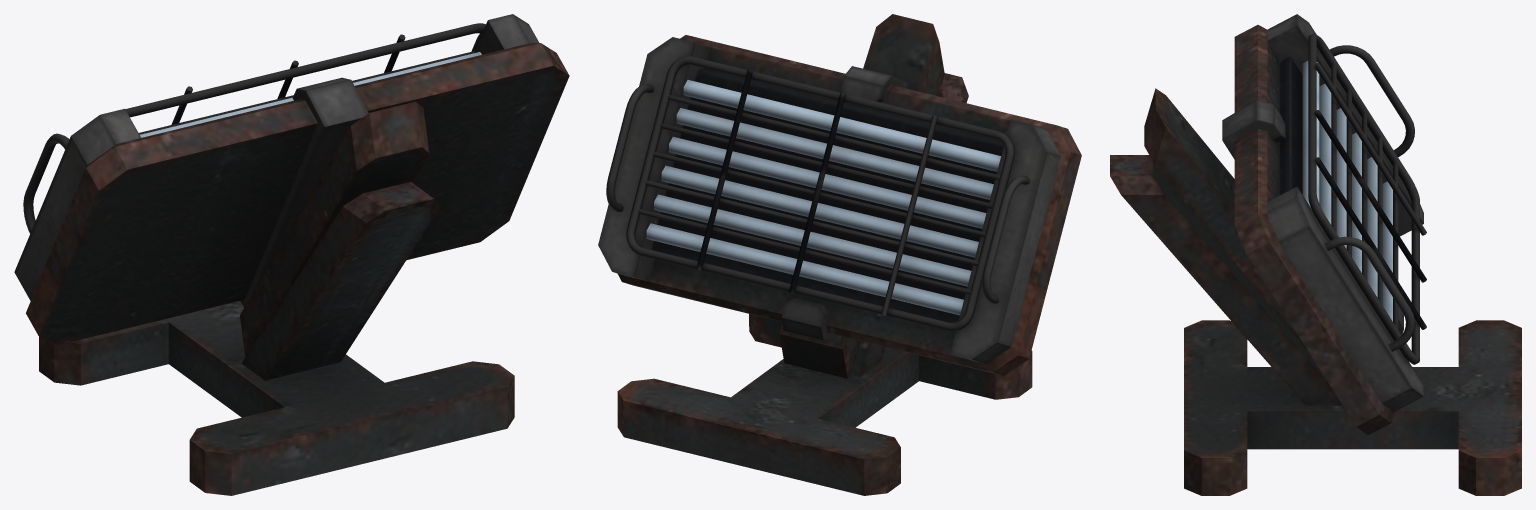
File: ShortLamp.FBX
The picture shows the model from 3 angles, left to right: view 1: azimuth 30°, elevation 25°; view 2: azimuth 150°, elevation 25°; view 3: azimuth 270°, elevation 25°; orthographic projection. The views are drawn at different scales.
Visible parts, largest first — view 1: ShortLamp; view 2: ShortLamp; view 3: ShortLamp.
Boxes of the visible parts, <box> form: ShortLamp: <box>14,14,569,495</box>; ShortLamp: <box>598,14,1081,495</box>; ShortLamp: <box>1110,14,1521,495</box>.
Bounding box in the file's own units: 93.94 × 69.55 × 78.17.
